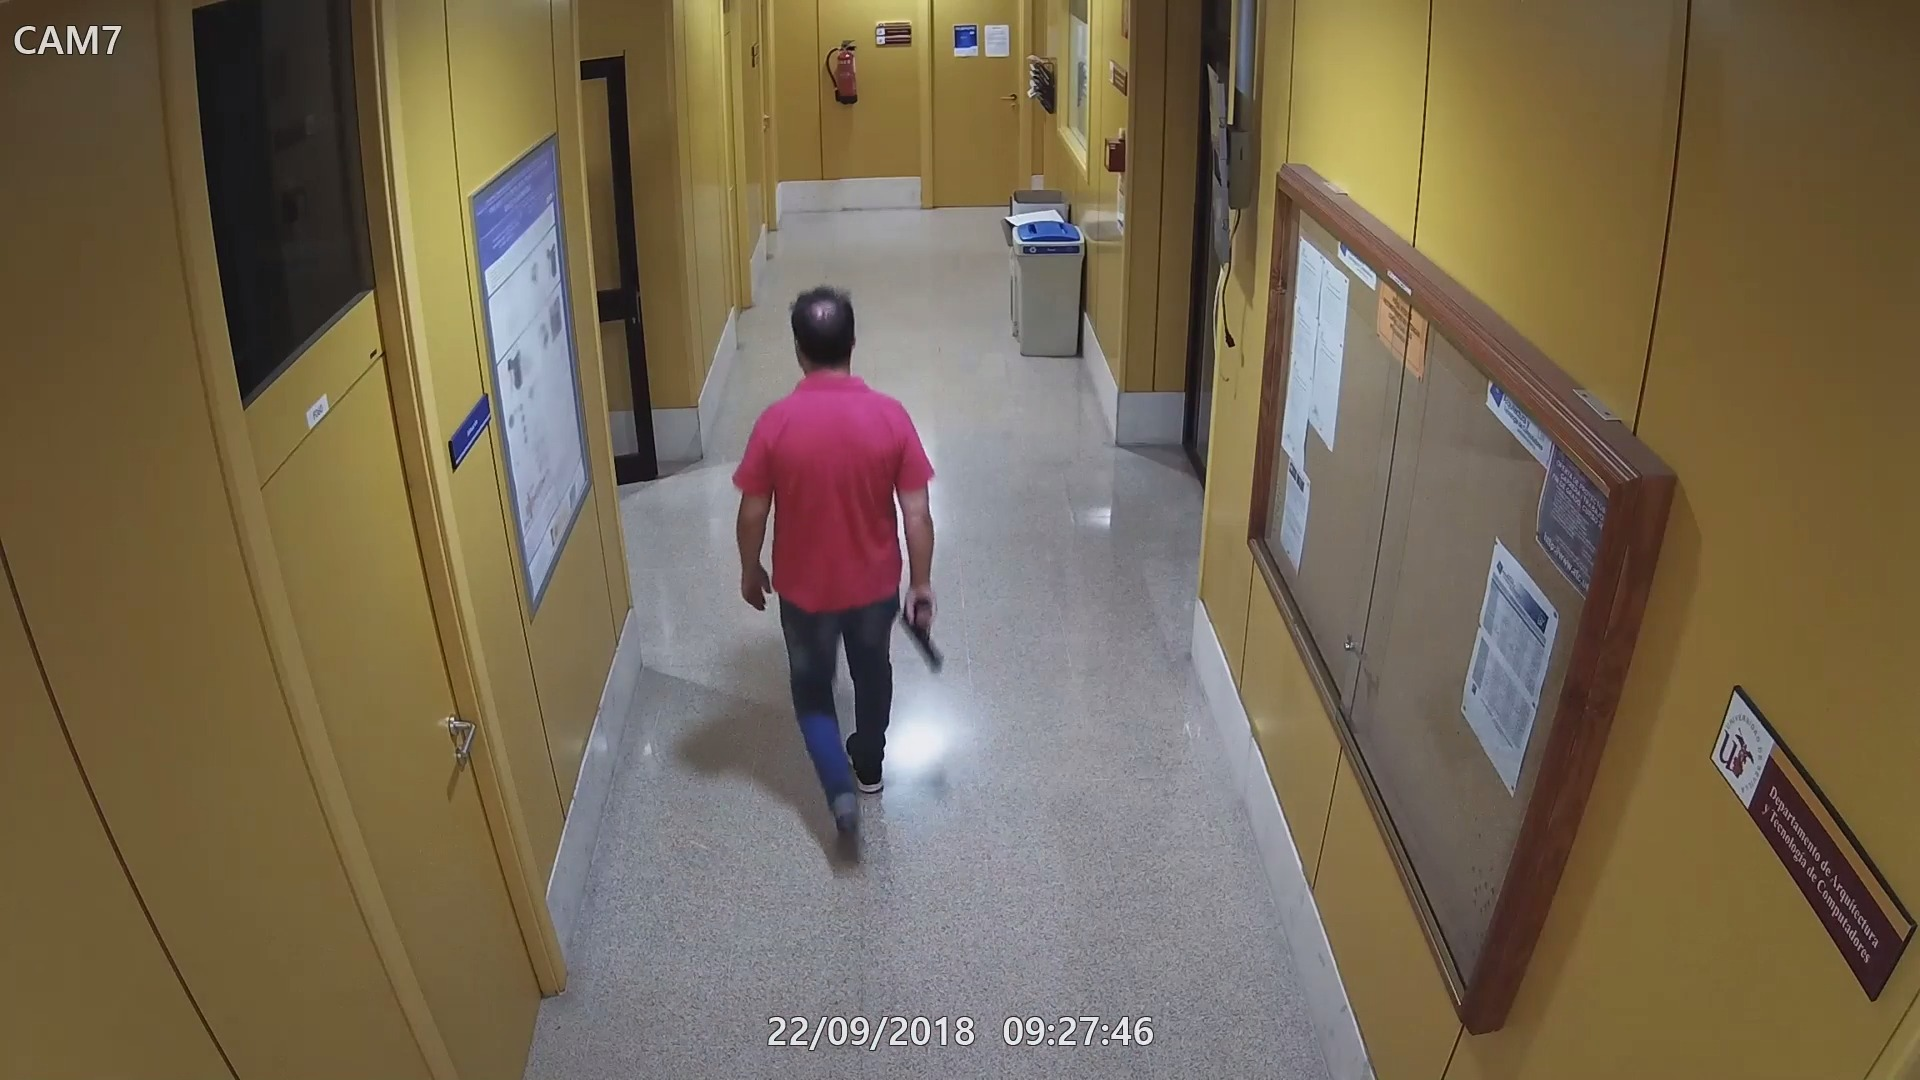Handgun: (891, 585, 953, 673)
